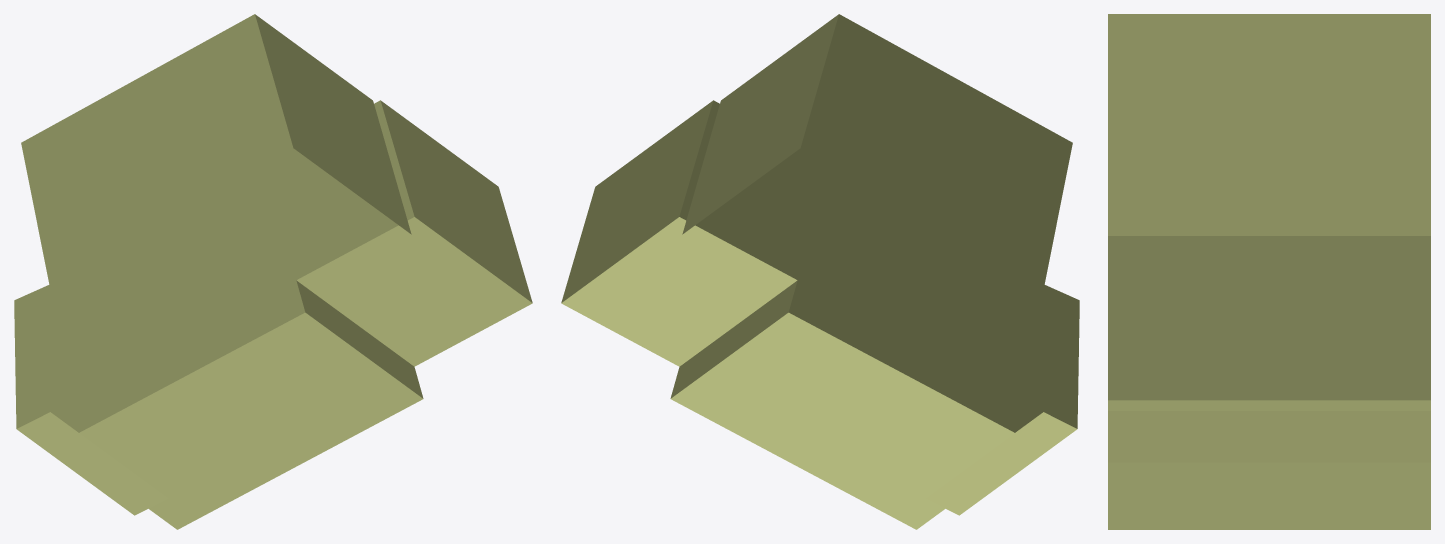
3 views of the same model, side by side, from view 1: azimuth 30°, elevation 25°; view 2: azimuth 150°, elevation 25°; view 3: azimuth 270°, elevation 25° (orthographic). The views are drawn at different scales.
Visible parts, largest first — view 1: 0_3_1_0_3_3_3_0_3_3; view 2: 0_3_1_0_3_3_3_0_3_3; view 3: 0_3_1_0_3_3_3_0_3_3.
Boxes of the visible parts, x1=… form: 0_3_1_0_3_3_3_0_3_3: x1=14, y1=14, x2=532, y2=529; 0_3_1_0_3_3_3_0_3_3: x1=561, y1=14, x2=1079, y2=529; 0_3_1_0_3_3_3_0_3_3: x1=1108, y1=14, x2=1430, y2=529.
Size of the model in its own units: 11.74 by 10.69 by 6.
